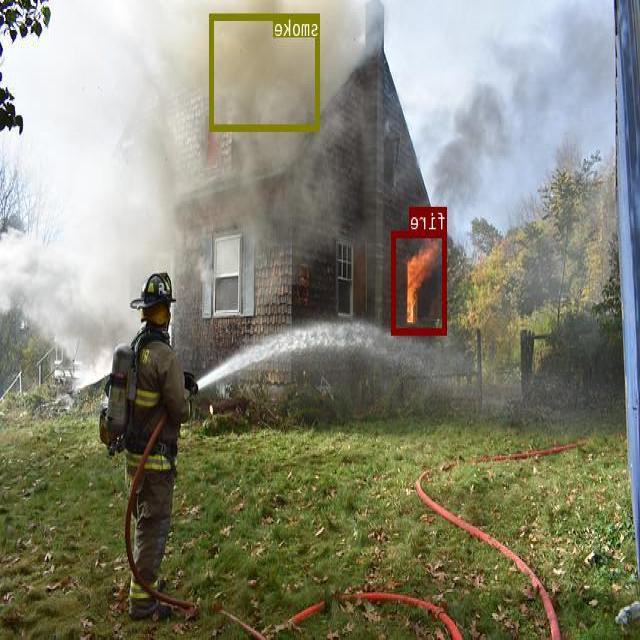fire: (392, 230, 448, 334)
smoke: (210, 14, 320, 130)
